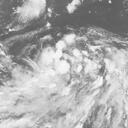cyclone: (28, 41, 104, 111)
